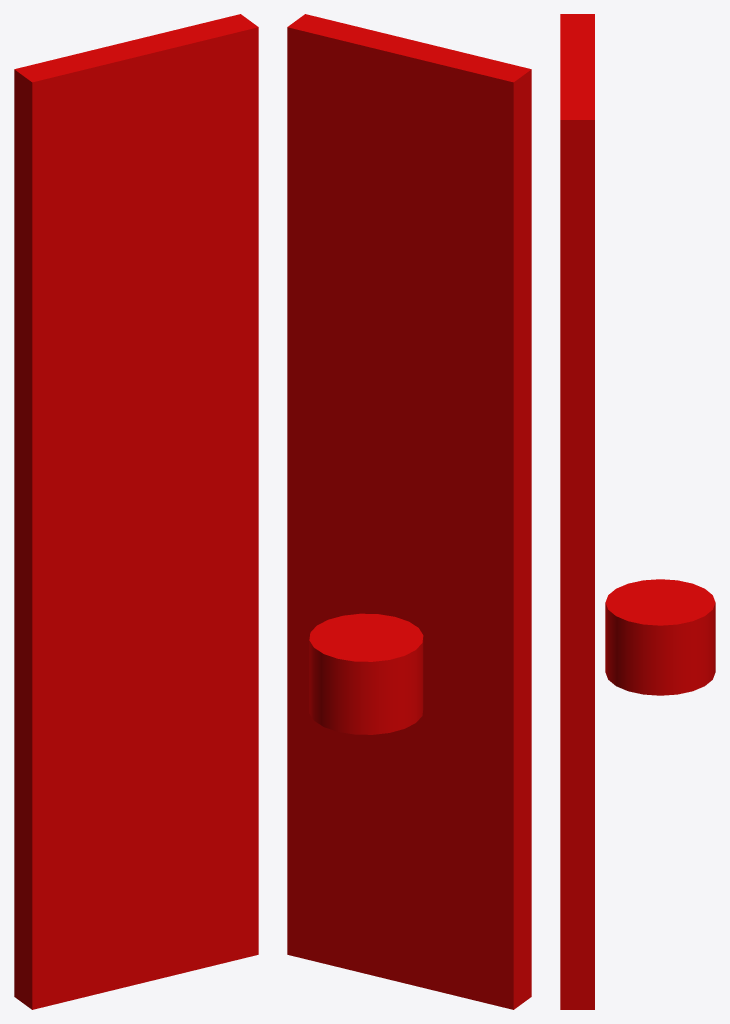
File: LightCandleHolderB08Collider.fbx
3 views of the same model, side by side, from view 1: azimuth 30°, elevation 25°; view 2: azimuth 150°, elevation 25°; view 3: azimuth 270°, elevation 25° (orthographic). The views are drawn at different scales.
Parts seen in each view (by area): view 1: LightCandleHolderB08Collision; view 2: LightCandleHolderB08Collision; view 3: LightCandleHolderB08Collision.
Part boxes in pixels (x1,y1,x2,y2): LightCandleHolderB08Collision: (14, 14, 258, 1009); LightCandleHolderB08Collision: (287, 14, 531, 1009); LightCandleHolderB08Collision: (560, 14, 715, 1009).
Bounding box in the file's own units: 8.75 × 34.25 × 5.41.
